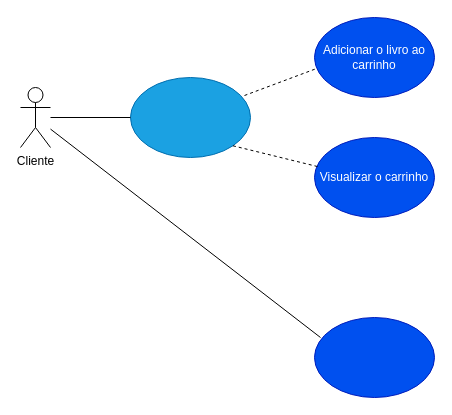
The diagram is 452 pixels wide and 415 high, and some of its shapes have lost their labels. Each missing label, with the box of its shape:
3º - Concluir o pedido: (314, 316, 434, 398)
Login: (130, 76, 250, 158)
